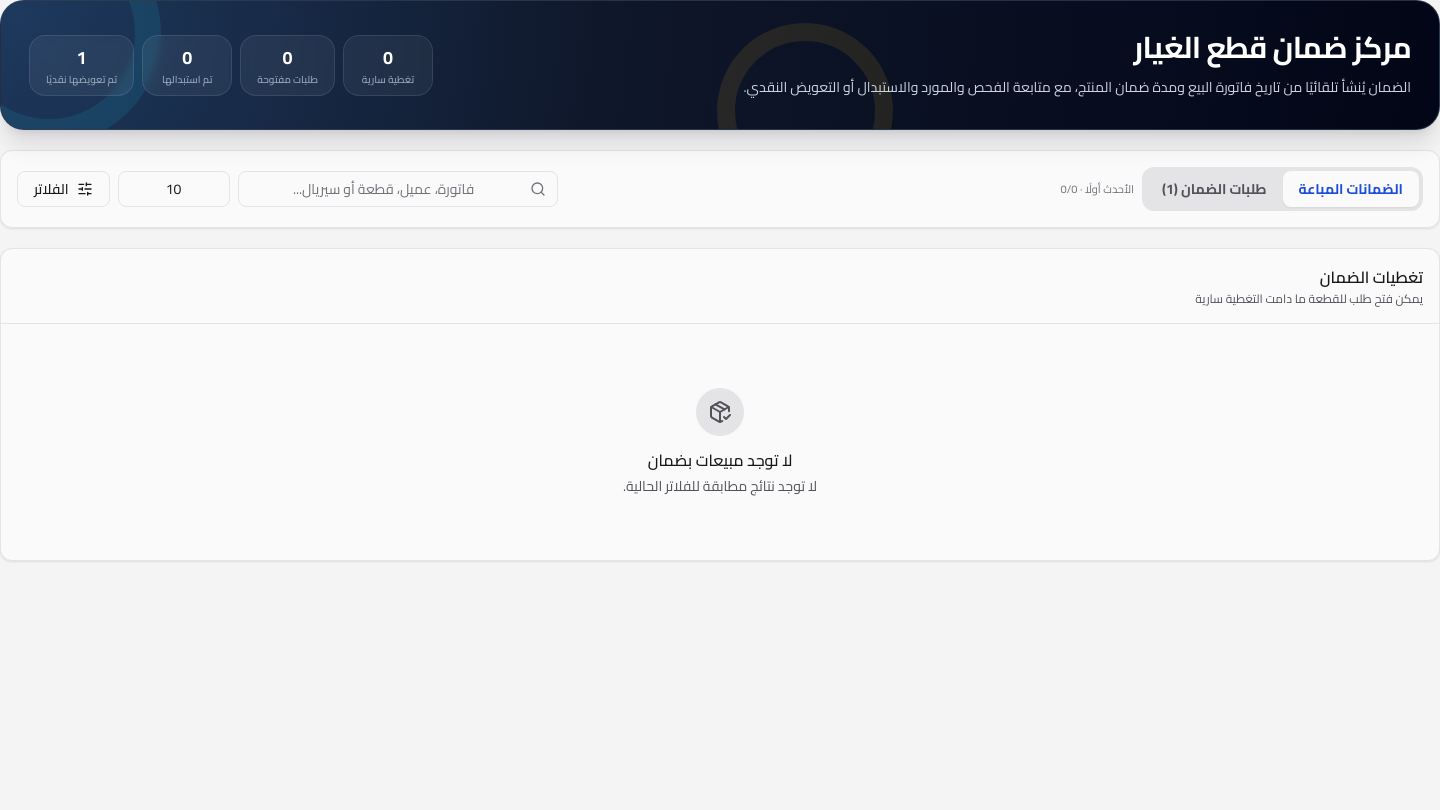
Test case: WarrantyCenterPage — TC-COMP-WARRANTY › keeps a compensated claim finalized and disables further decisions
Click the button "طلبات الضمان (1)" at (1214, 189), box [1146, 171, 1283, 207]
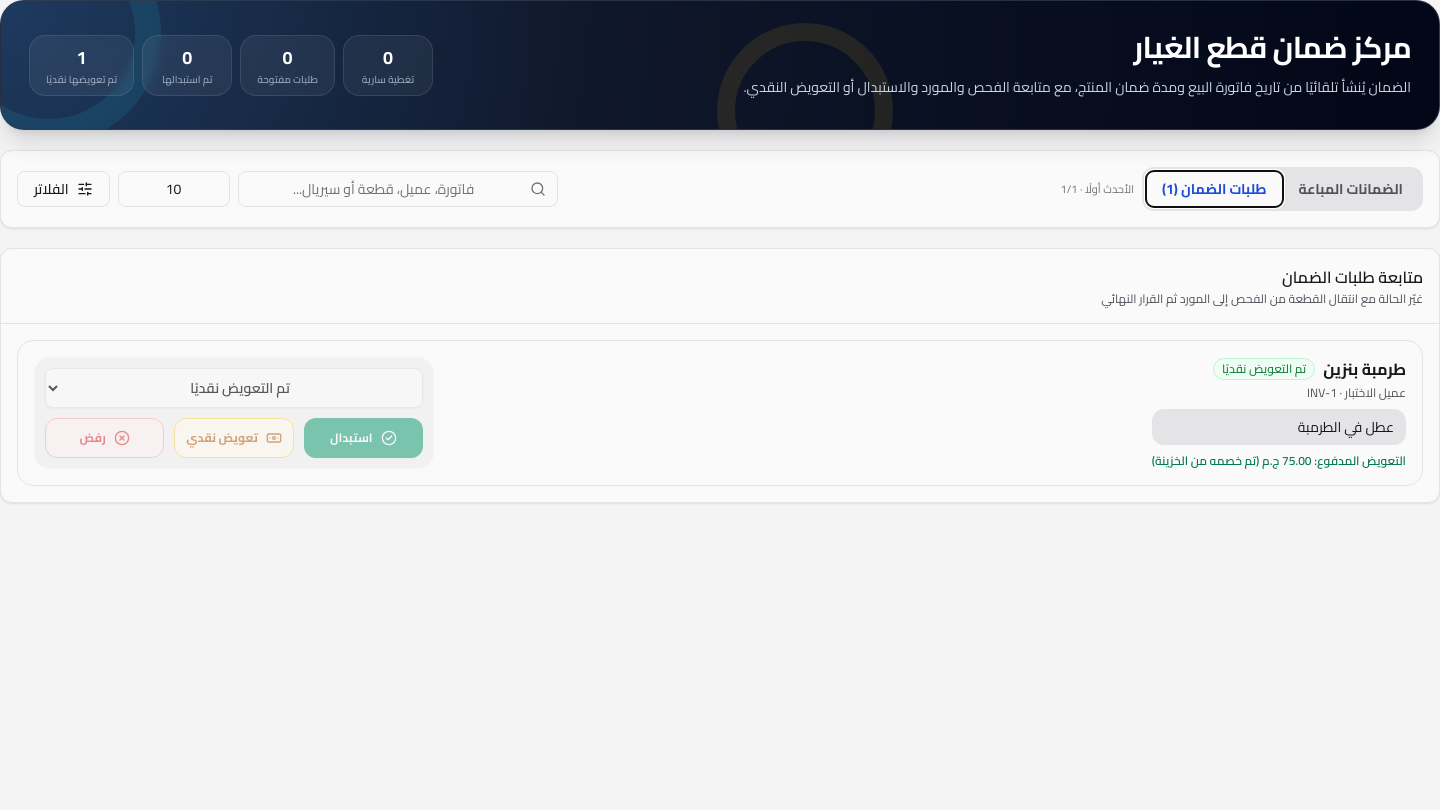
Now the text "تم التعويض نقديًا" is shown, box [1213, 358, 1315, 380]
Now the dropdown is disabled, box [45, 368, 423, 408]
Now the button "استبدال" is disabled, box [304, 418, 423, 458]
